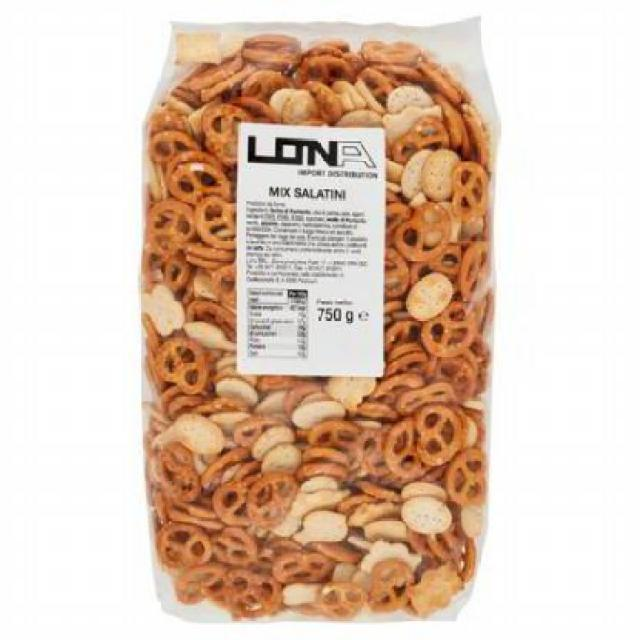Salatini: (136, 15, 504, 628)
